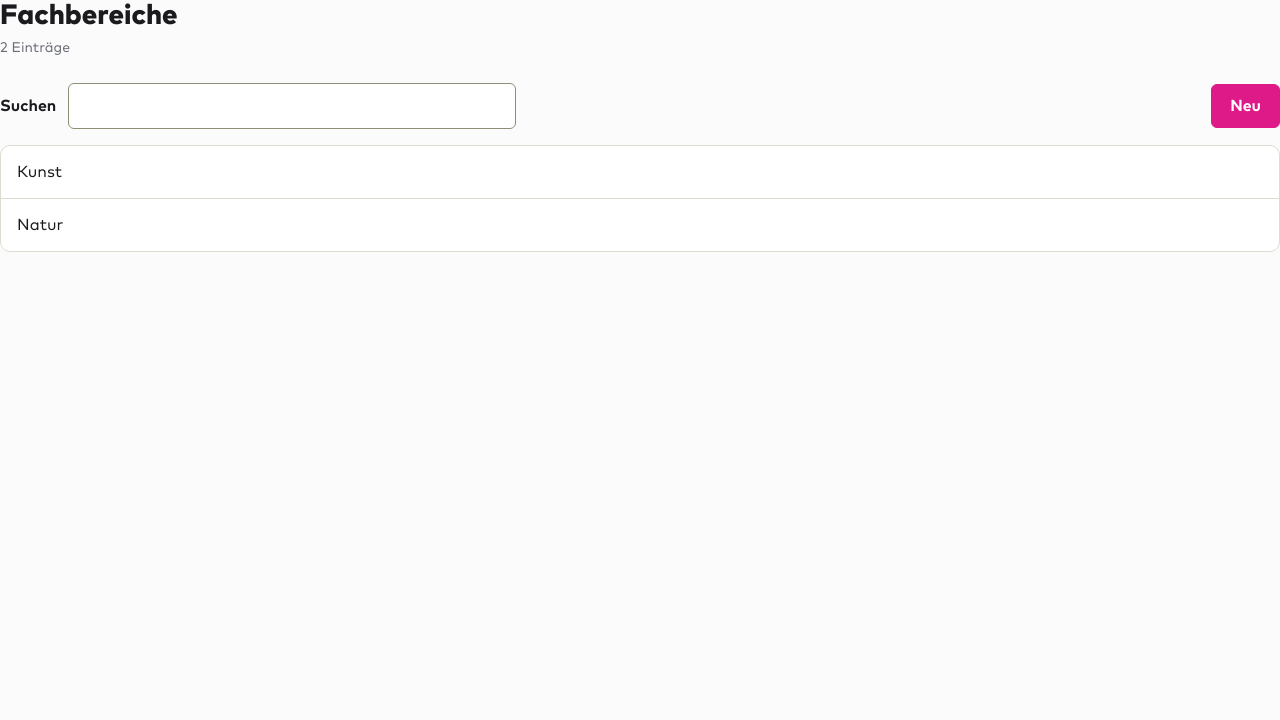
Löschen im Formular › Löschen mit Ziel: Formular zu, Eintrag weg; Esc gibt Fokus an den Löschen-Knopf zurück
This screenshot has width=1280, height=720.
Click the button "Natur" at (40, 225), box [1,199,1279,251]
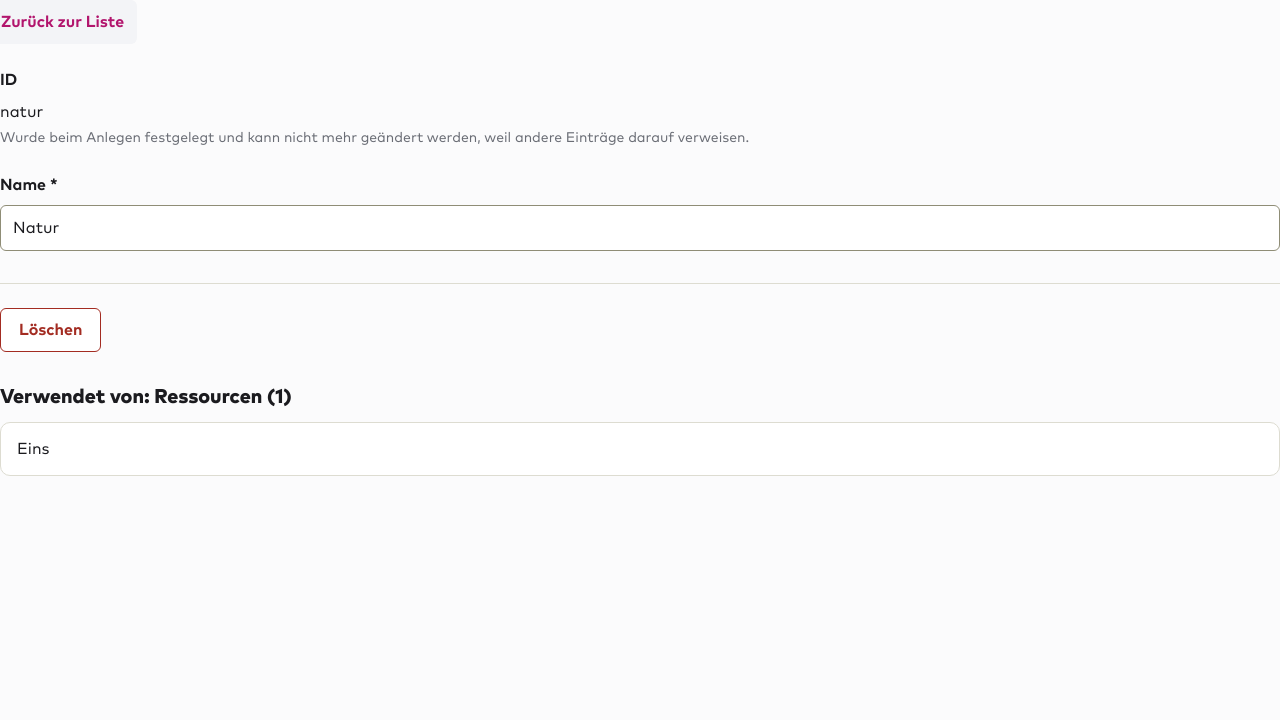
Click the button "Löschen" at (51, 330), box [0,308,101,352]
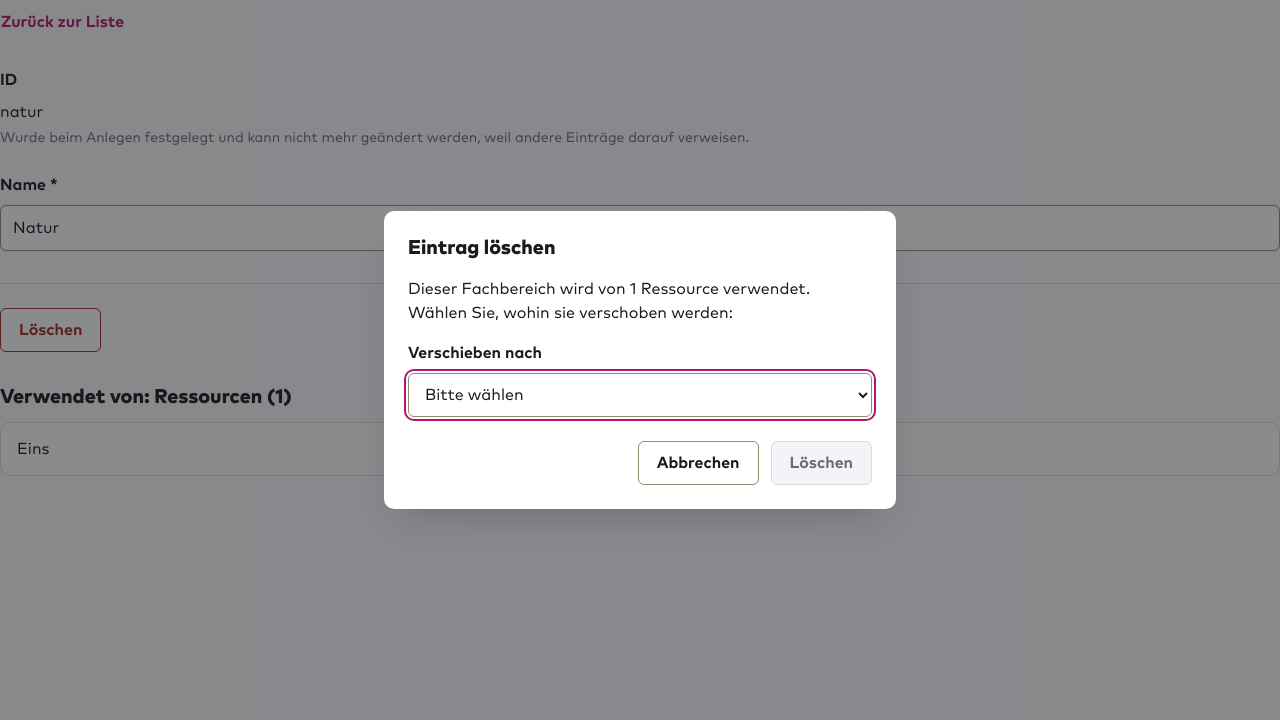
Expected: the dialog is shown, [384,211,896,509]
Press Escape in the dropdown labelled "Verschieben nach", box [408,373,872,417]
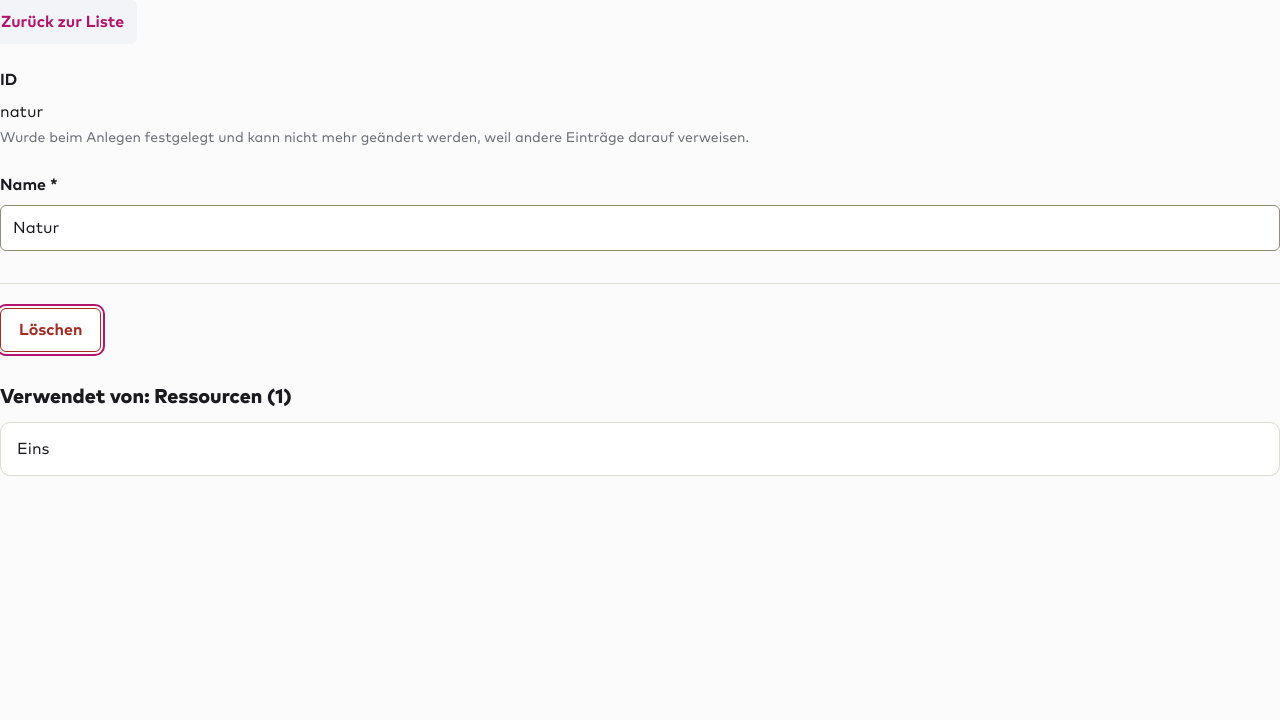
Expected: the dialog is gone
Click the button "Löschen" at (51, 330), box [0,308,101,352]
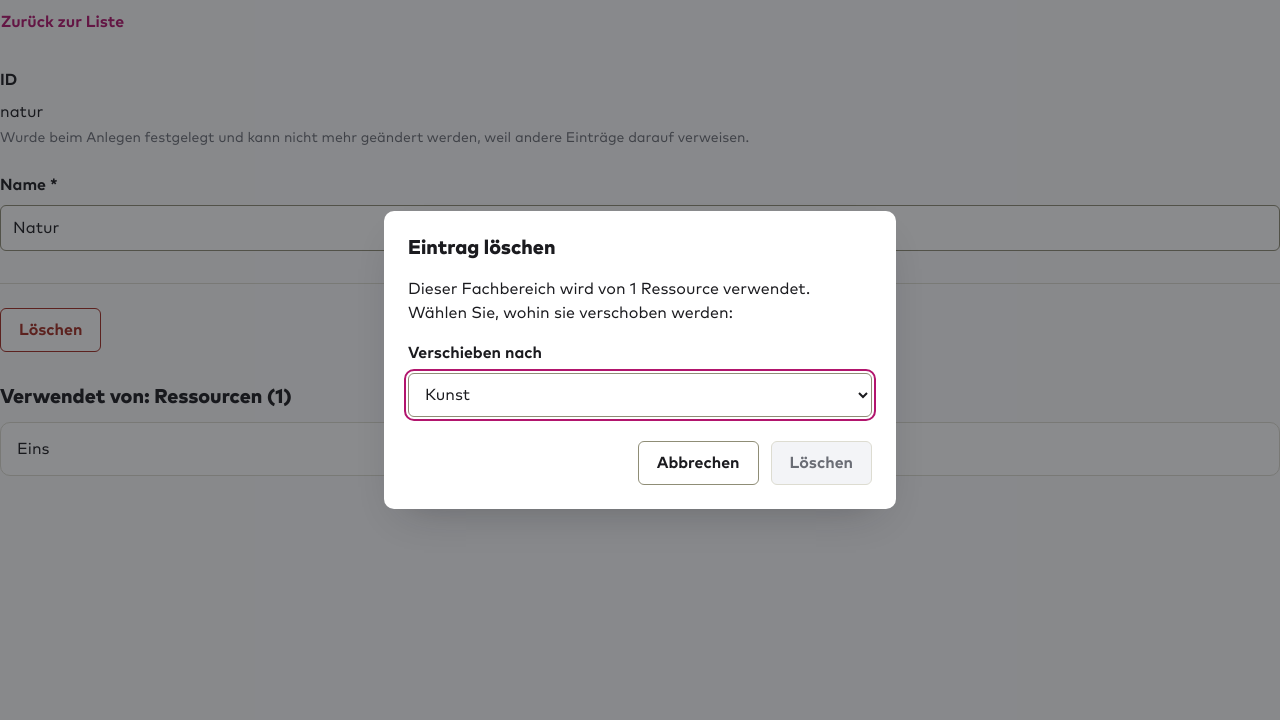
Select "Kunst" in the dropdown labelled "Verschieben nach" at (640, 395), box [408,373,872,417]
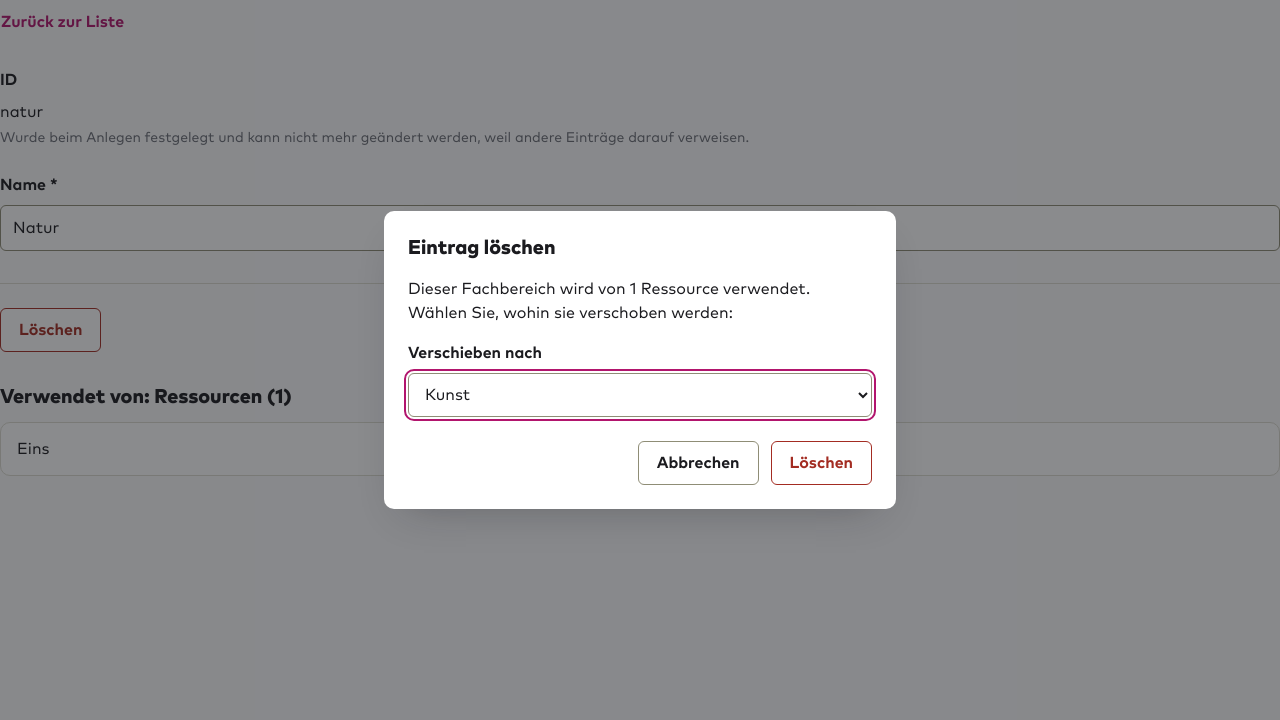
Click the button "Löschen" at (821, 463), box [771,441,872,485]
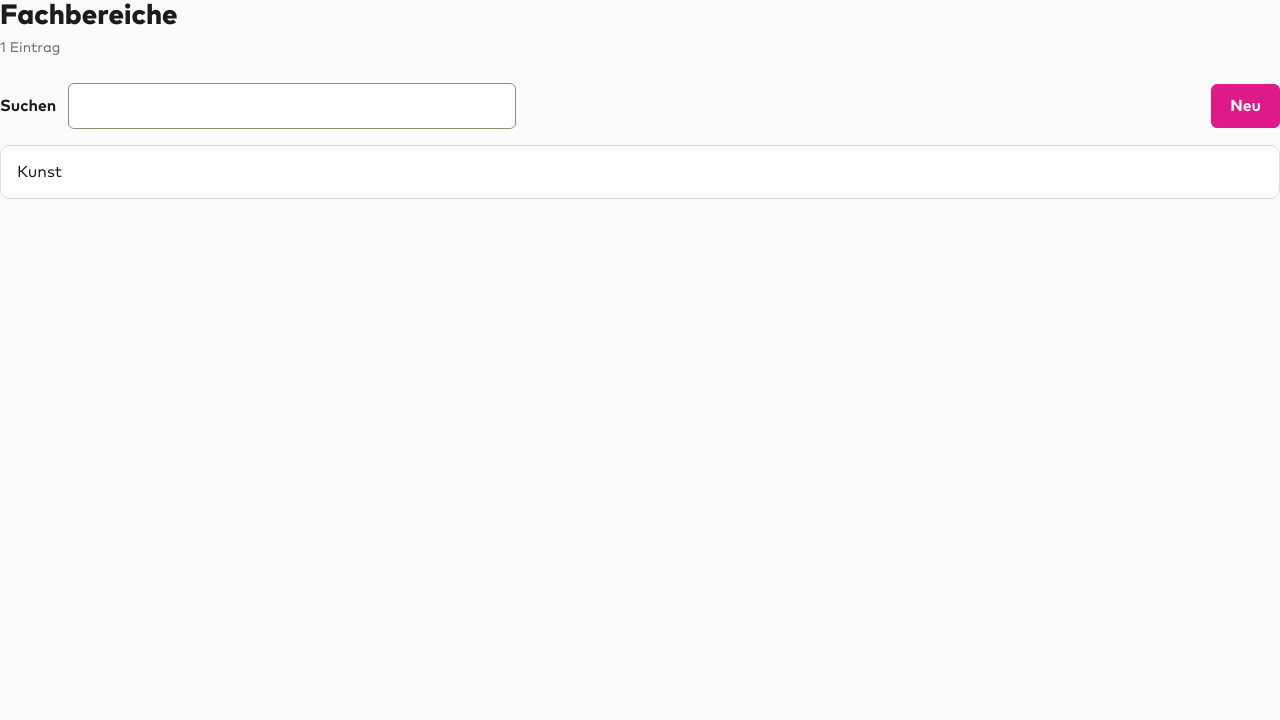
Expected: the form is gone
Expected: the text with class "entry-list" no longer shows "natur"
Expected: the list with class "entry-list" reads "Kunst", [1,146,1279,198]
